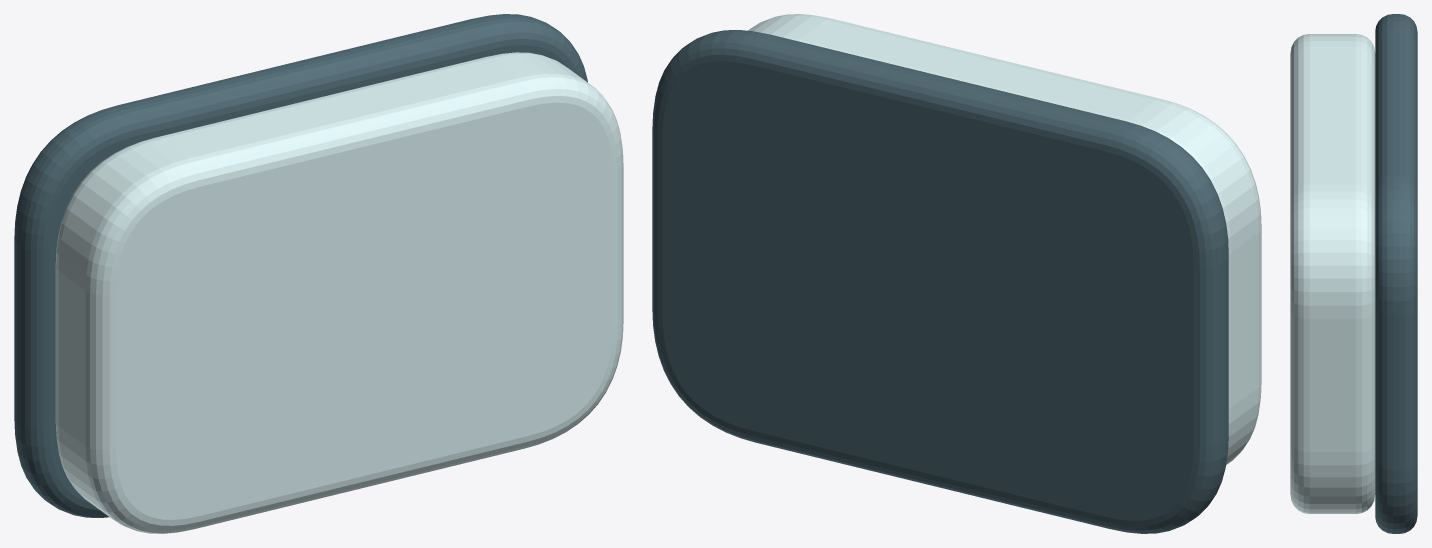
3 renders of one model, left to right at view 1: azimuth 30°, elevation 25°; view 2: azimuth 150°, elevation 25°; view 3: azimuth 270°, elevation 25°, orthographic. The views are drawn at different scales.
Parts seen in each view (by area): view 1: bounded-water, receiver-bed; view 2: receiver-bed, bounded-water; view 3: bounded-water, receiver-bed.
Boxes of the visible parts, x1,y1,x2,y2 form: bounded-water: (55, 52, 623, 533); receiver-bed: (14, 14, 587, 517); receiver-bed: (652, 30, 1228, 533); bounded-water: (748, 14, 1261, 464); bounded-water: (1290, 34, 1375, 513); receiver-bed: (1375, 14, 1417, 533).
Size of the model in its own units: 2.65 by 1.8 by 0.6.
